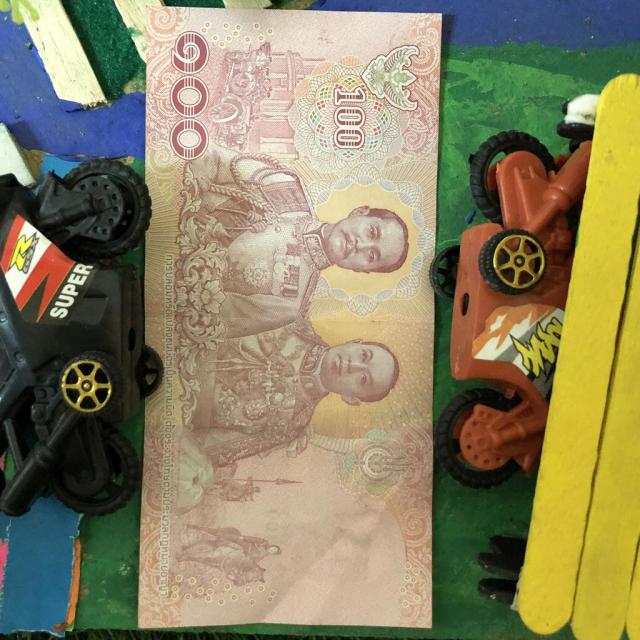THAI100: (139, 8, 443, 628)
